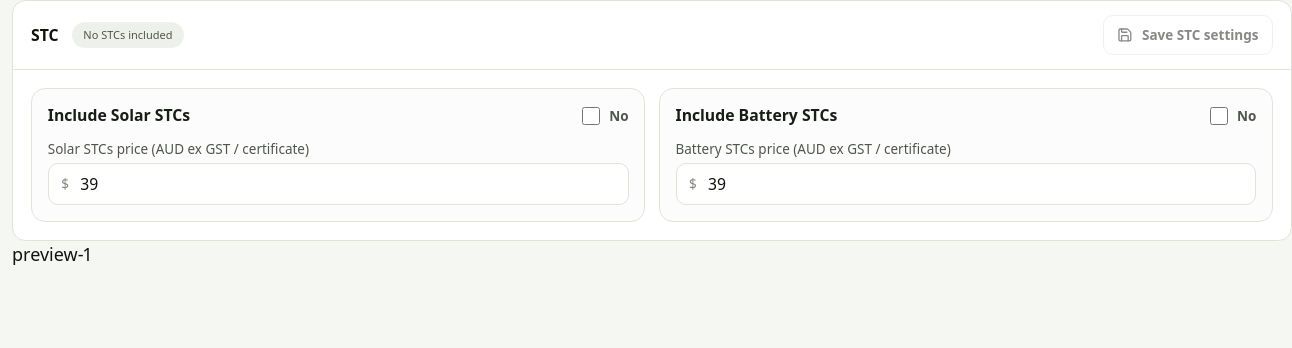
it: CiRebateProfilePanel › invalidates the saved Net CAPEX snapshot after STC inputs change
The image size is (1292, 348).
Expected: the text "preview-1" is shown, [12,242,91,266]
Click the checkbox labelled "Include Solar STCs" at (591, 116), box [582,106,600,124]
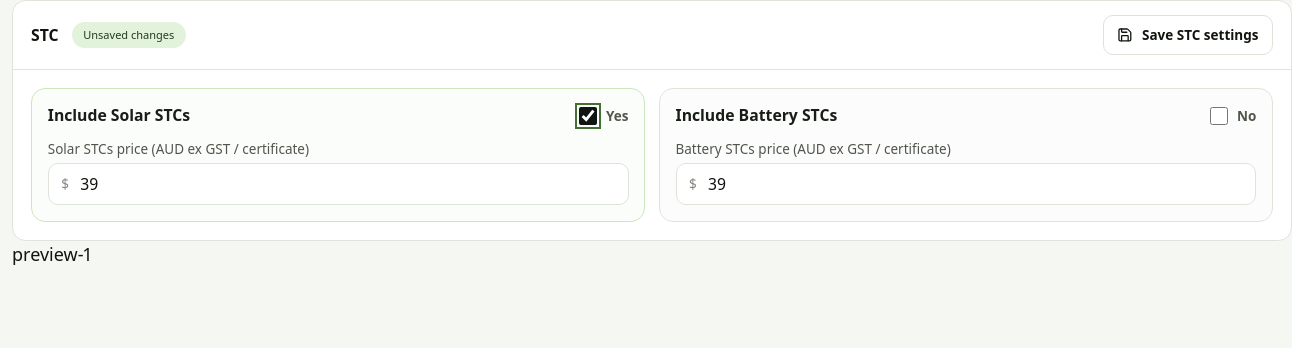
Click the button "Save STC settings" at (1188, 35), box [1103,14,1273,55]
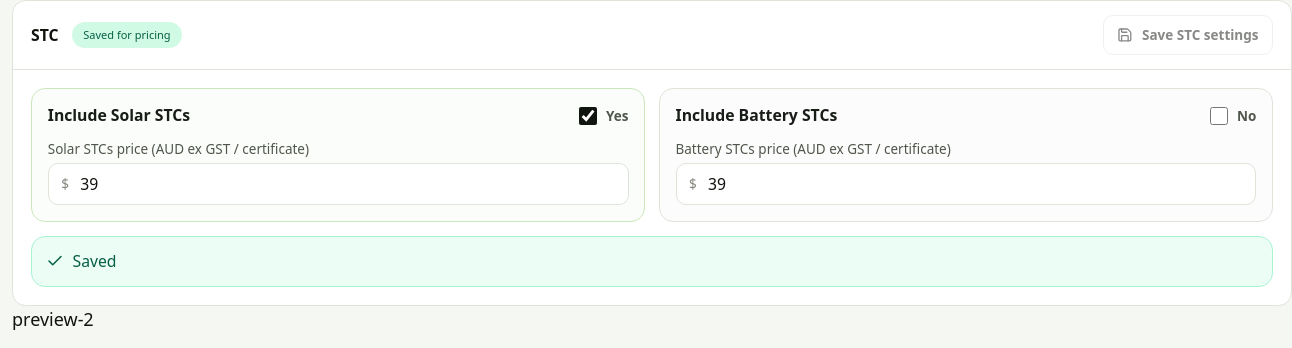
Expected: the text "Saved" is shown, [31,236,1273,287]
Expected: the text "preview-2" is shown, [12,307,94,331]
